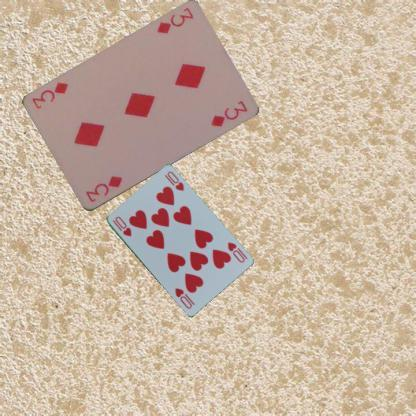10h: (110, 214, 132, 238), (224, 240, 245, 264)
3d: (153, 5, 195, 36), (82, 174, 124, 204)
